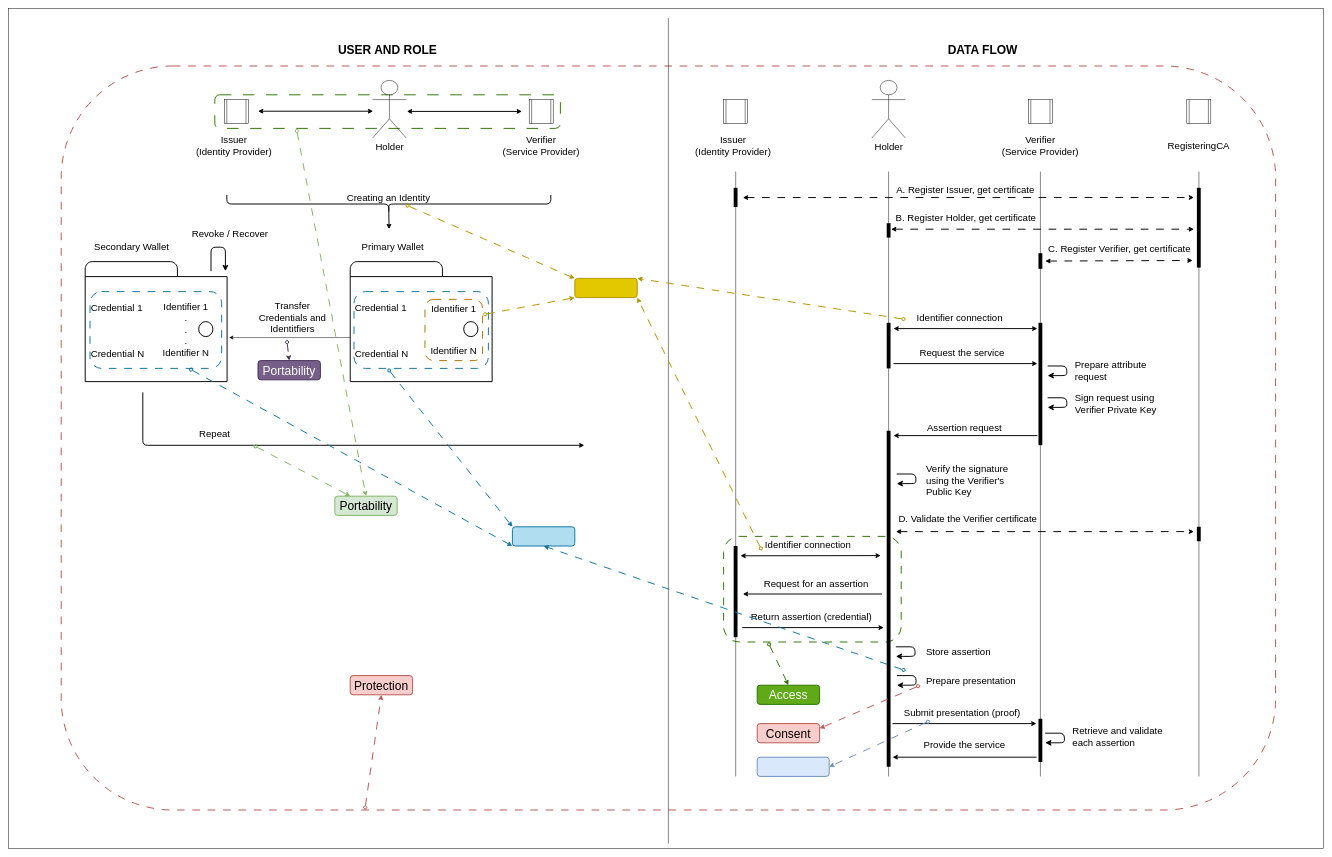
Image size: 1332x857. Some labels were removed from this diagram. The shapes that lost their labels are listed below. From the top down, each one's centre as x and y in pixels, then its label:
(x=605, y=288): Existence
(x=543, y=536): Control
(x=792, y=766): Minimization
